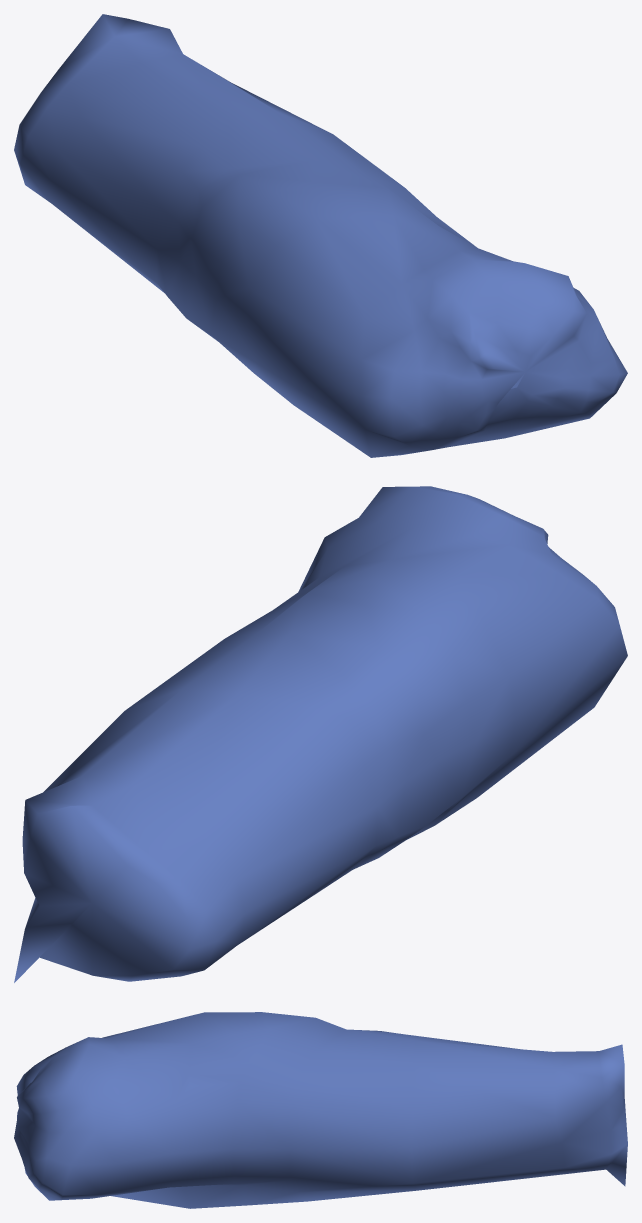
The model's file is UpLeg.R.dae.
3 renders of one model, top to bottom at view 1: azimuth 30°, elevation 25°; view 2: azimuth 150°, elevation 25°; view 3: azimuth 270°, elevation 25°, orthographic. The views are drawn at different scales.
Visible parts, largest first — view 1: UpLeg_R; view 2: UpLeg_R; view 3: UpLeg_R.
Boxes of the visible parts, <box> form: UpLeg_R: <box>14,14,627,457</box>; UpLeg_R: <box>14,486,627,982</box>; UpLeg_R: <box>14,1012,627,1208</box>.
Size of the model in its own units: 0.1749 by 0.4487 by 0.1278.
